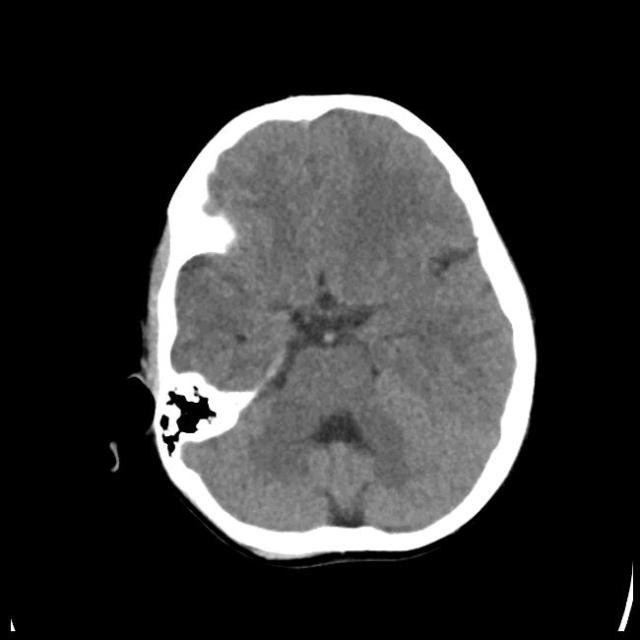lesion: (136, 93, 536, 561)
